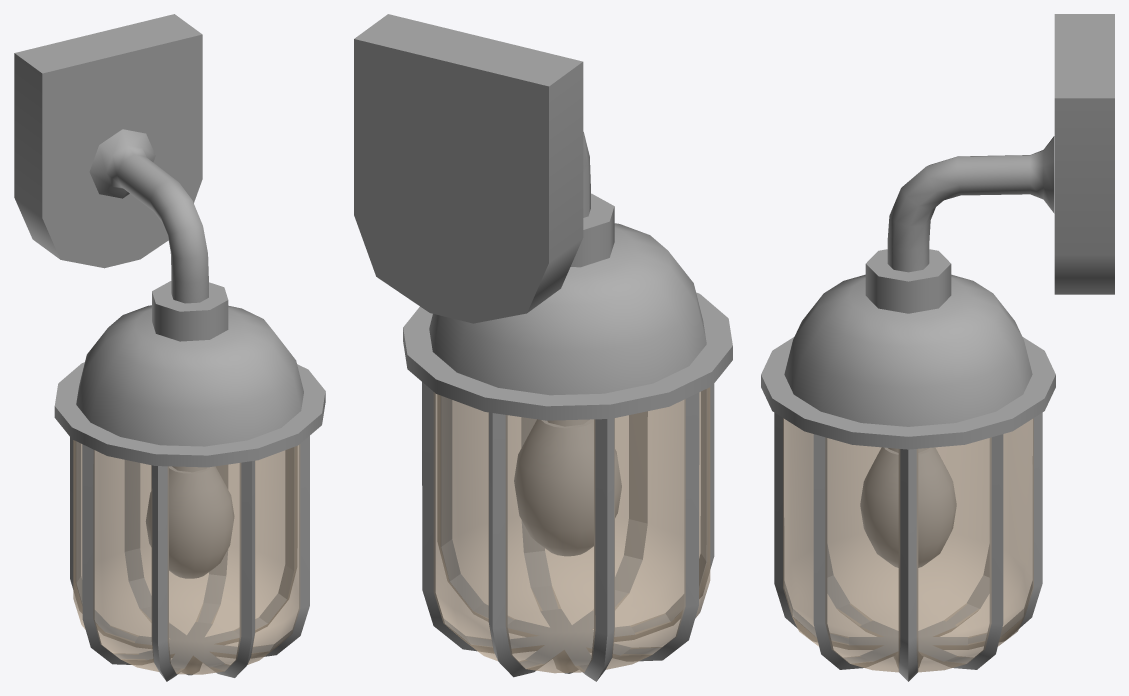
File: lamp_geo.fbx
3 views of the same model, side by side, from view 1: azimuth 30°, elevation 25°; view 2: azimuth 150°, elevation 25°; view 3: azimuth 270°, elevation 25° (orthographic). The views are drawn at different scales.
Parts seen in each view (by area): view 1: lamp_geo, glass_geo, lampEmission_geo; view 2: lamp_geo, glass_geo, lampEmission_geo; view 3: lamp_geo, glass_geo, lampEmission_geo.
Part boxes in pixels (<box>): lamp_geo: <box>14,14,325,681</box>; glass_geo: <box>73,440,300,674</box>; lampEmission_geo: <box>146,466,234,578</box>; lamp_geo: <box>354,14,732,681</box>; glass_geo: <box>433,387,710,673</box>; lampEmission_geo: <box>514,419,621,556</box>; lamp_geo: <box>761,14,1114,681</box>; glass_geo: <box>783,418,1033,672</box>; lampEmission_geo: <box>860,447,956,567</box>.
Bounding box in the file's own units: 19.85 × 45.69 × 23.82.
